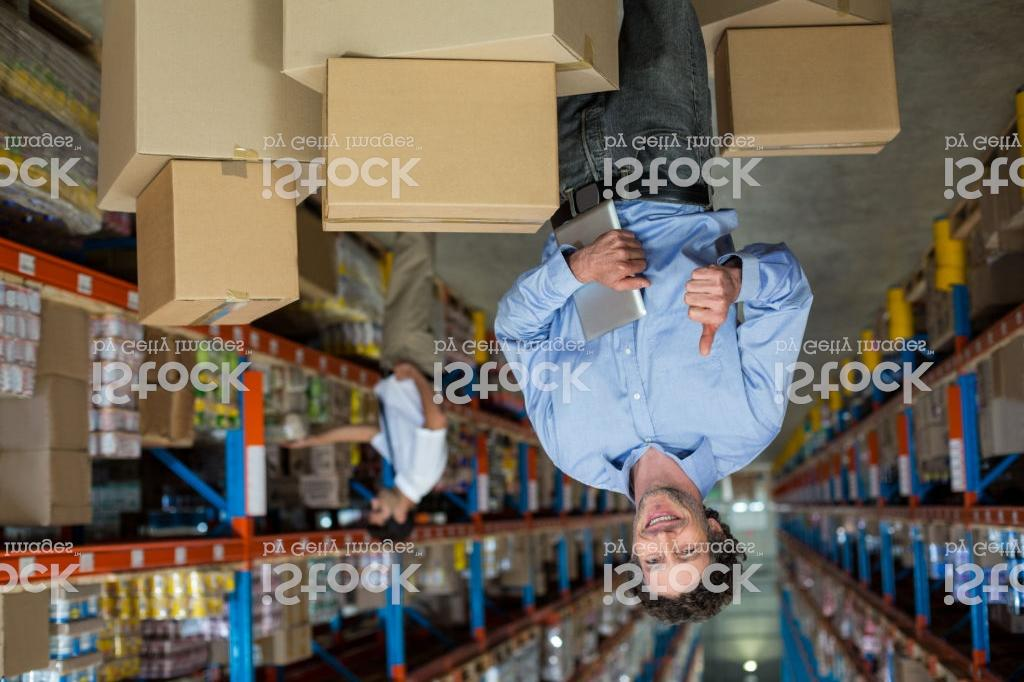thumbsdown: (680, 259, 732, 357)
